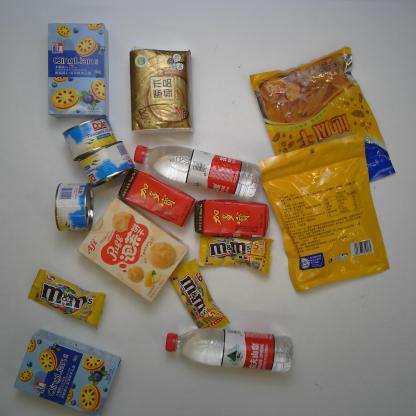Canned Food: (61, 114, 116, 162), (80, 140, 136, 186), (53, 180, 95, 234)
Chocolate: (166, 258, 230, 334), (26, 268, 107, 325), (196, 233, 273, 274)
Dessert: (80, 198, 189, 305), (12, 329, 120, 416), (46, 19, 116, 119)
Dried Fruit: (255, 131, 391, 293), (245, 46, 396, 185)
Drink: (132, 142, 260, 198), (163, 329, 294, 372), (120, 171, 196, 228), (193, 198, 273, 238)
Tissue: (127, 47, 198, 135)
